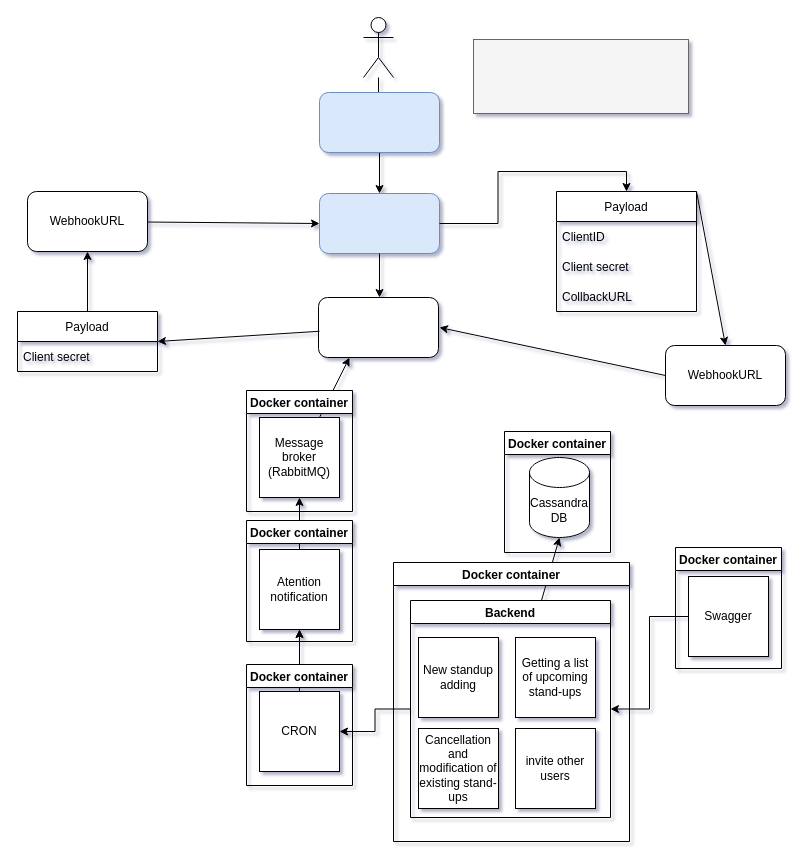
Some shapes in this 809 by 865 pixel diagram are drawn without their labels. Each missing label, with the centre of its shape:
"Slack" belongs at (379,122).
"Slack bot app" belongs at (379,223).
"Standup bot MVP" belongs at (580,76).
"standup-bot" belongs at (378,327).
